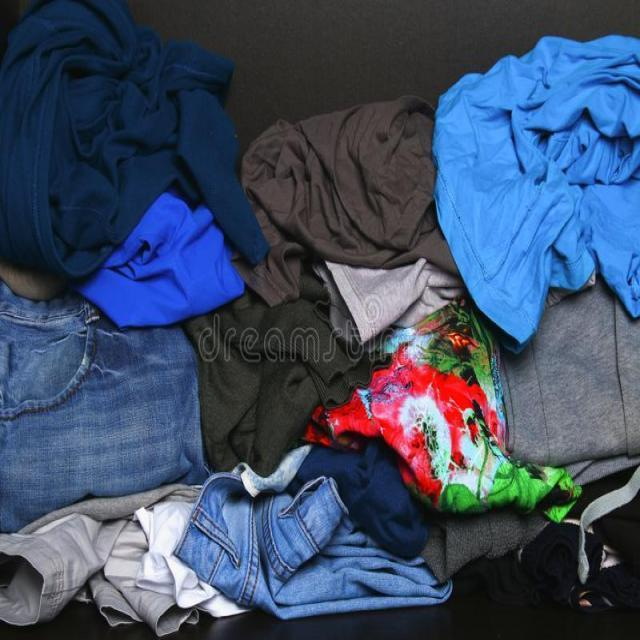clothes: (35, 52, 428, 594)
